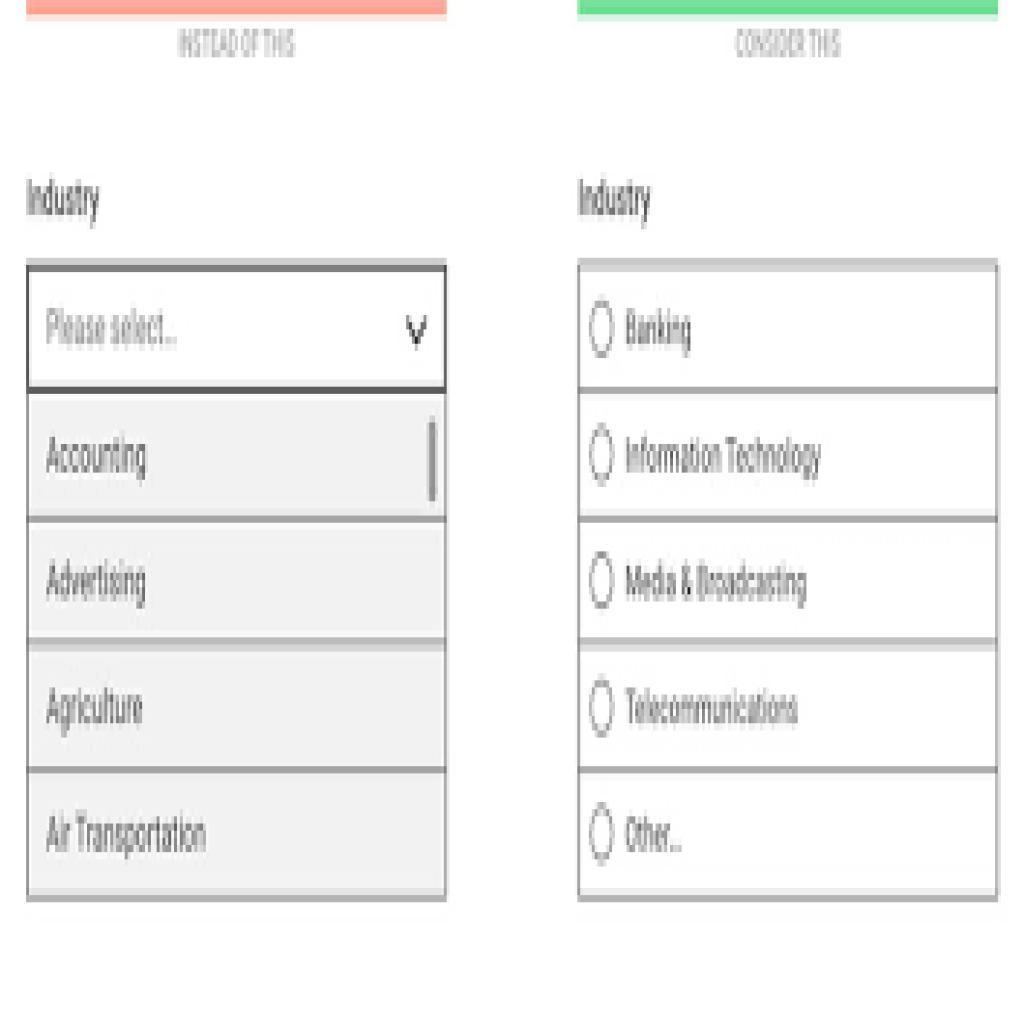button: (30, 772, 446, 900), (28, 395, 446, 518), (28, 519, 448, 641), (28, 648, 446, 770)
dropdown: (27, 265, 446, 394)
radio: (586, 549, 618, 614), (588, 803, 618, 866), (589, 421, 617, 486), (588, 298, 617, 360), (590, 678, 617, 741)
